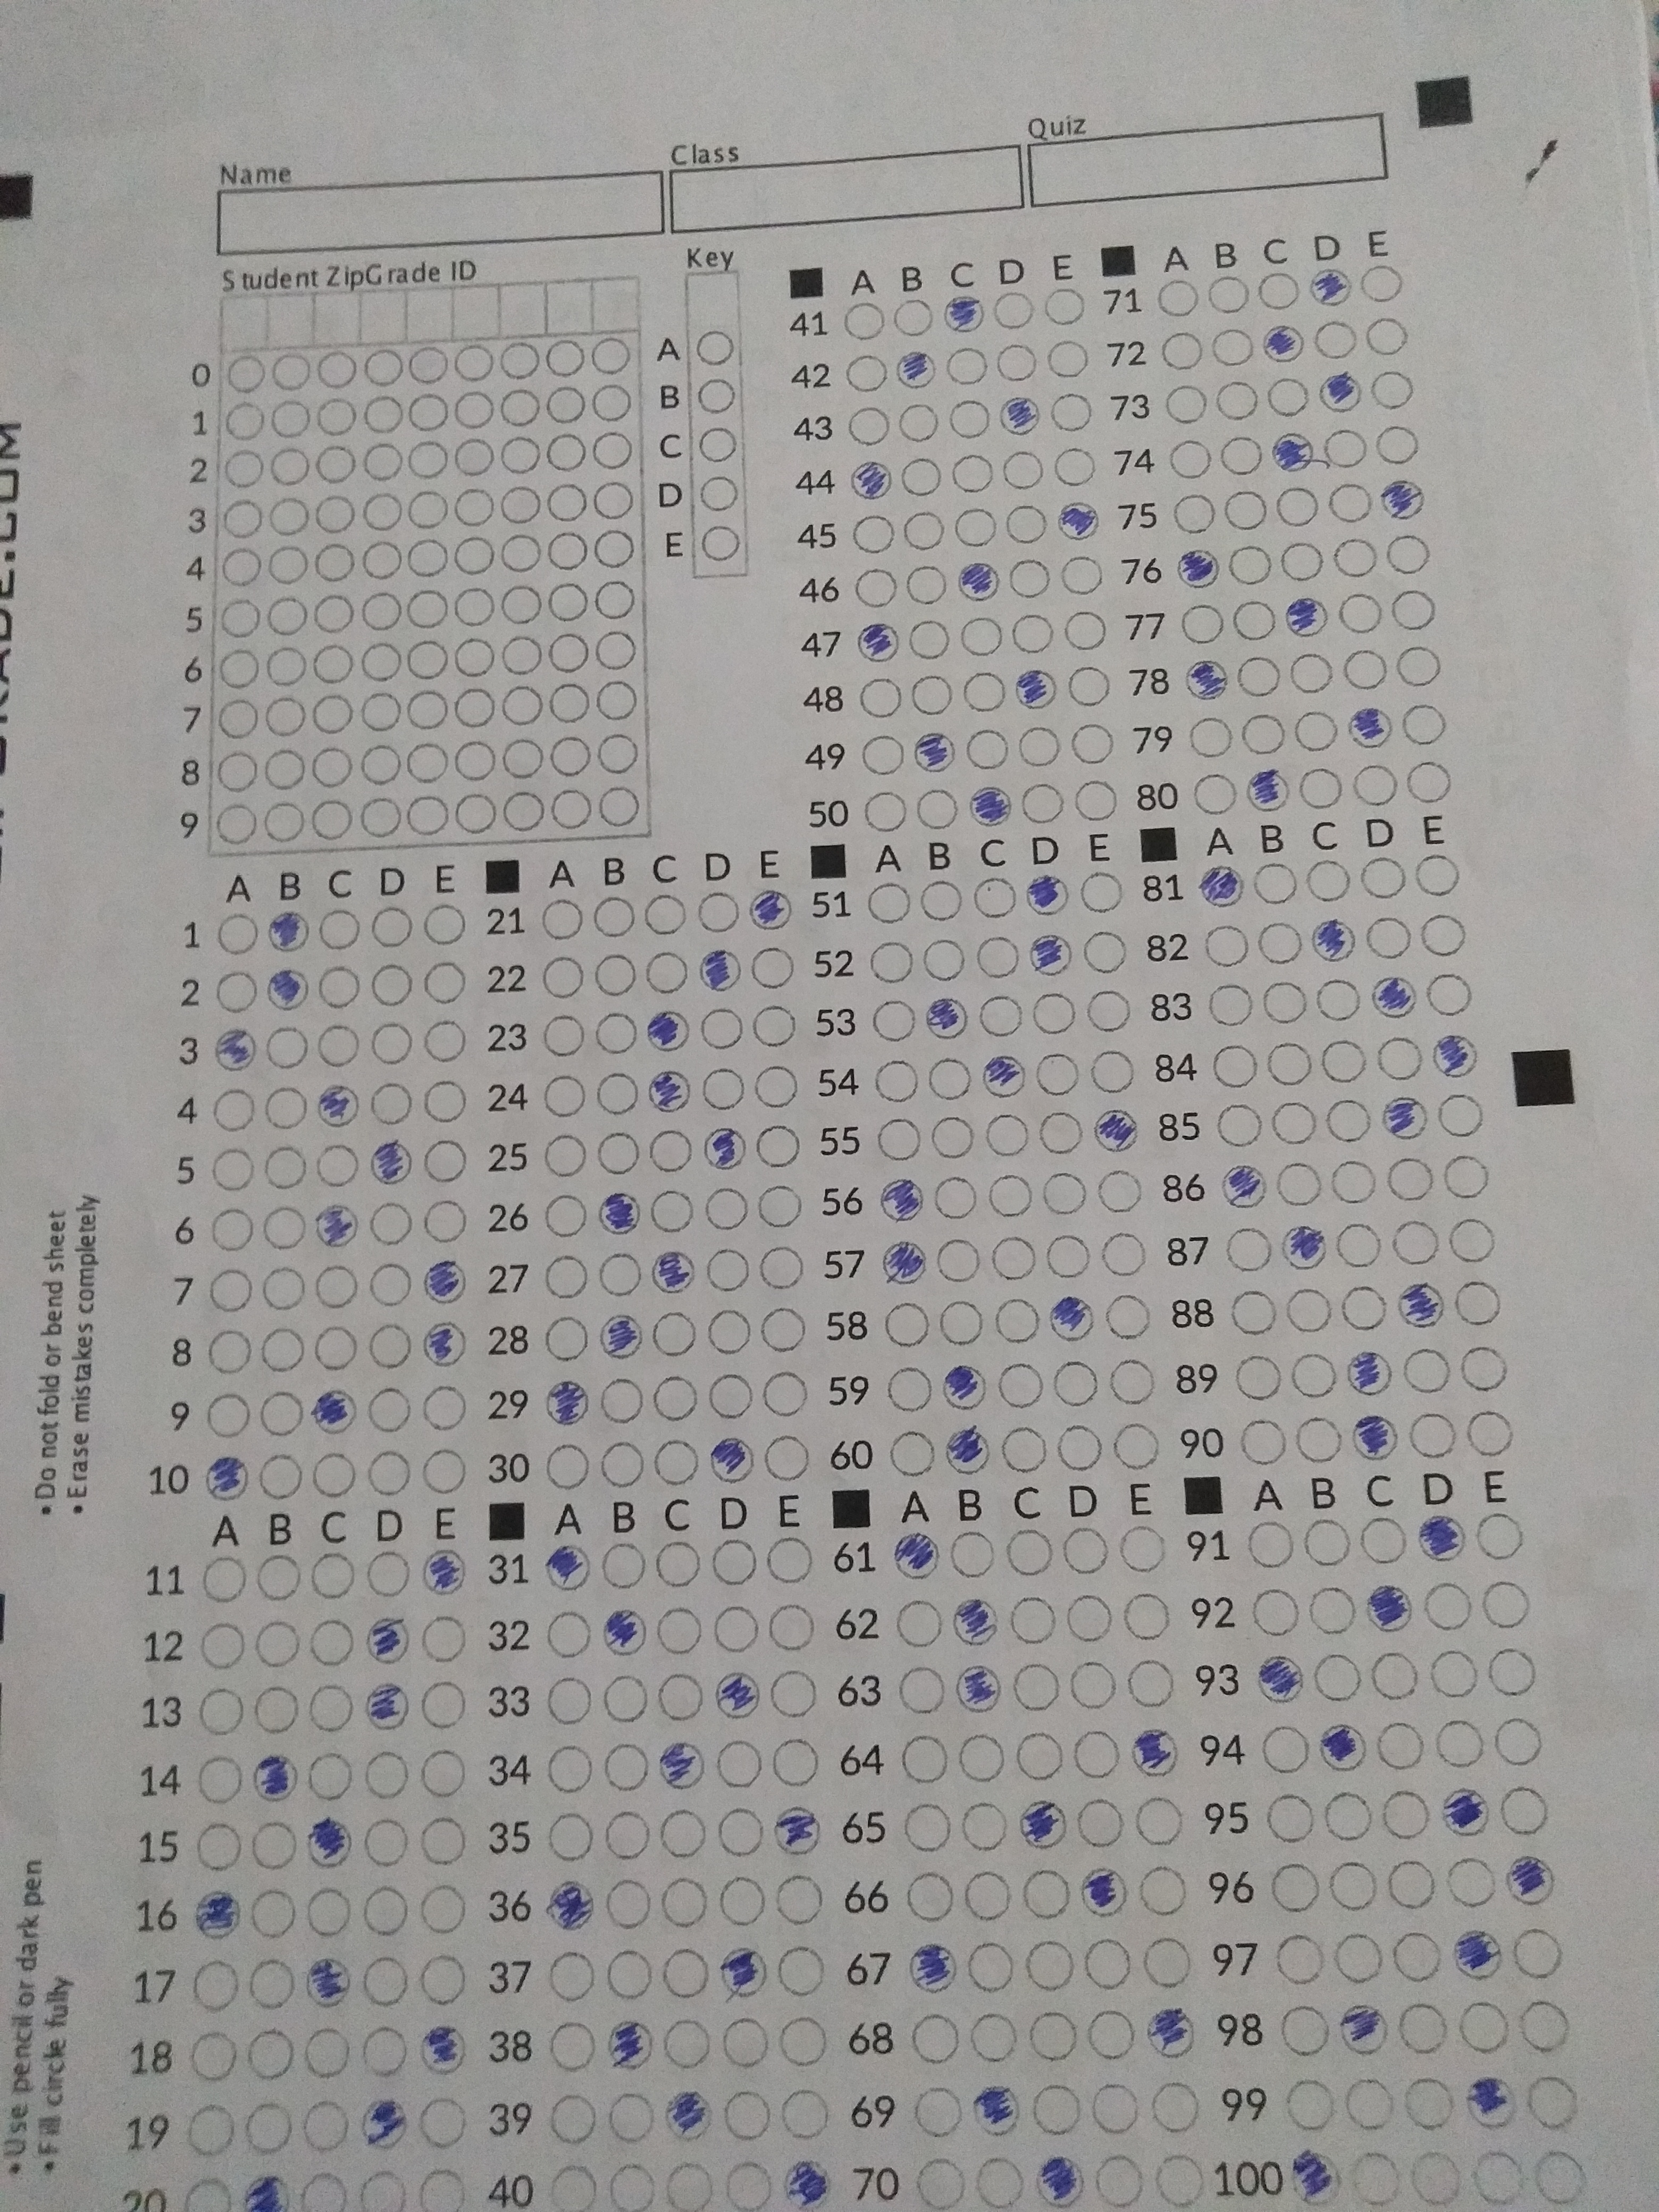not-c: (1349, 2148, 1405, 2205), (1527, 2073, 1582, 2130), (1398, 2000, 1453, 2057), (1277, 2001, 1333, 2059), (1089, 2080, 1145, 2137), (910, 2085, 965, 2142), (960, 1869, 1016, 1926), (903, 1867, 958, 1925), (955, 1801, 1011, 1858), (1408, 2149, 1464, 2205), (1473, 2148, 1527, 2205), (1534, 2148, 1588, 2205), (1520, 2000, 1574, 2057), (1345, 2076, 1399, 2134), (1403, 2076, 1457, 2134), (1028, 2080, 1082, 2137), (897, 1799, 951, 1857), (1459, 1998, 1513, 2054), (1284, 2078, 1338, 2134), (1147, 2081, 1201, 2137), (1018, 1865, 1072, 1921), (418, 1745, 467, 1803), (420, 1679, 469, 1737), (599, 1541, 650, 1592), (652, 1541, 702, 1592), (709, 1540, 760, 1590), (763, 1536, 814, 1587), (767, 1604, 817, 1655), (711, 1606, 762, 1656), (653, 1608, 704, 1658), (655, 1672, 706, 1723), (601, 1672, 652, 1723), (545, 1677, 596, 1728), (544, 1743, 594, 1794), (601, 1742, 652, 1792), (714, 1740, 765, 1791), (767, 1667, 817, 1717), (713, 1738, 763, 1789), (420, 1613, 469, 1665), (542, 1608, 591, 1660), (650, 1308, 699, 1359), (760, 1369, 809, 1420), (540, 1073, 589, 1122), (704, 1186, 753, 1235), (708, 1372, 755, 1421), (598, 1439, 645, 1487), (652, 1440, 699, 1489), (544, 1442, 592, 1489), (540, 1254, 589, 1301), (540, 1193, 589, 1240), (542, 1134, 591, 1181), (538, 1014, 587, 1061), (697, 1007, 746, 1054), (645, 1129, 694, 1176), (199, 1688, 246, 1735), (542, 1315, 589, 1362), (701, 1066, 748, 1113), (706, 1245, 753, 1292), (706, 1310, 753, 1357), (650, 1372, 695, 1421), (599, 1376, 645, 1425), (362, 1888, 408, 1935), (423, 1815, 469, 1862), (978, 2160, 1023, 2207), (918, 2161, 964, 2209), (418, 2165, 464, 2212), (612, 2165, 657, 2212), (960, 1735, 1006, 1782), (1253, 1590, 1298, 1637), (1483, 1583, 1528, 1630), (1502, 1789, 1547, 1836), (1026, 1942, 1072, 1989), (1467, 1411, 1513, 1458), (1297, 1416, 1342, 1463), (1002, 1425, 1047, 1472), (889, 1432, 934, 1479), (1063, 1527, 1108, 1575), (1007, 1527, 1053, 1575), (1070, 1663, 1115, 1710), (1073, 1728, 1119, 1775), (1389, 1157, 1434, 1204), (1276, 1160, 1321, 1207), (1394, 1217, 1439, 1264), (1335, 1223, 1380, 1270), (1100, 1231, 1145, 1278), (1340, 1284, 1385, 1331), (1230, 1289, 1276, 1336), (882, 1303, 927, 1350), (1377, 1035, 1422, 1082), (1216, 1103, 1262, 1150), (983, 1109, 1028, 1157), (857, 676, 903, 723), (1072, 777, 1117, 824), (1253, 860, 1298, 907), (1307, 857, 1352, 904), (1366, 914, 1412, 961), (1080, 874, 1126, 921), (870, 939, 915, 986), (875, 1057, 920, 1104), (871, 998, 917, 1045), (908, 672, 953, 719), (962, 671, 1007, 718), (1396, 644, 1441, 691), (1293, 709, 1338, 756), (1192, 772, 1237, 819), (1326, 477, 1371, 524), (1387, 531, 1432, 578), (897, 455, 943, 502), (901, 507, 946, 554), (1211, 320, 1256, 368), (845, 399, 890, 446), (1358, 261, 1403, 308), (777, 1876, 823, 1921), (662, 1879, 708, 1925), (361, 2031, 406, 2076), (303, 2031, 349, 2076), (418, 1958, 464, 2003), (361, 1959, 406, 2005), (249, 1892, 295, 1937), (364, 1818, 410, 1864), (247, 1824, 293, 1869), (782, 2092, 828, 2137), (551, 2024, 596, 2069), (1269, 1864, 1314, 1909), (1337, 1933, 1382, 1979), (1155, 2160, 1201, 2205), (1378, 1724, 1424, 1770), (1263, 1728, 1309, 1773), (1384, 1794, 1429, 1839), (1460, 1348, 1506, 1393), (1241, 1421, 1286, 1467), (1056, 1425, 1101, 1470), (1040, 1169, 1086, 1214), (988, 1174, 1033, 1219), (934, 1176, 979, 1221), (990, 1235, 1035, 1280), (995, 1298, 1040, 1343), (1316, 975, 1361, 1021), (1439, 1094, 1485, 1139), (1033, 1052, 1079, 1097), (875, 1055, 920, 1101), (875, 1115, 920, 1160), (1070, 718, 1115, 763), (1018, 780, 1063, 826), (1420, 913, 1466, 958), (979, 996, 1025, 1042), (1066, 665, 1112, 711), (1223, 486, 1269, 531), (1051, 442, 1096, 488), (951, 505, 997, 550), (1006, 502, 1051, 547), (1215, 374, 1260, 420), (254, 1688, 298, 1735), (305, 2101, 349, 2148), (721, 1878, 765, 1925), (249, 1959, 293, 2006), (197, 1824, 240, 1871), (551, 1813, 594, 1860), (361, 2165, 404, 2212), (725, 2165, 769, 2212), (669, 2163, 713, 2210), (725, 2092, 769, 2139), (971, 2013, 1014, 2060), (1030, 2013, 1073, 2060), (1518, 1932, 1561, 1979), (1396, 1933, 1439, 1980), (1279, 1933, 1323, 1980), (1098, 2158, 1141, 2205), (904, 1737, 948, 1784), (1310, 1588, 1354, 1635), (1488, 1646, 1532, 1693), (1432, 1649, 1476, 1696), (1316, 1655, 1359, 1702), (1326, 1792, 1370, 1839), (1269, 1794, 1312, 1841), (1138, 1801, 1182, 1848), (1079, 1801, 1122, 1848), (1330, 1862, 1373, 1909), (1140, 1867, 1183, 1914), (1145, 1939, 1188, 1986), (967, 1944, 1011, 1991), (1112, 1357, 1155, 1404), (1291, 1353, 1335, 1400), (1248, 1521, 1291, 1568), (1121, 1526, 1164, 1573), (951, 1529, 995, 1576), (896, 1599, 939, 1646), (1011, 1595, 1054, 1642), (1066, 1595, 1110, 1642), (1126, 1595, 1169, 1642), (1014, 1665, 1058, 1712), (1018, 1735, 1061, 1782), (1333, 1158, 1377, 1205), (1098, 1167, 1141, 1214), (1448, 1219, 1492, 1266), (1227, 1226, 1270, 1273), (1046, 1233, 1089, 1280), (1288, 1287, 1331, 1334), (939, 1301, 983, 1348), (1053, 1360, 1096, 1407), (887, 1366, 931, 1413), (1429, 974, 1473, 1021), (1263, 979, 1307, 1026), (1209, 981, 1253, 1028), (1089, 1047, 1133, 1094), (1213, 1043, 1256, 1090), (1274, 1101, 1317, 1148), (1040, 1109, 1084, 1157), (861, 730, 904, 777), (965, 725, 1009, 772), (866, 787, 910, 834), (915, 787, 958, 834), (1415, 853, 1459, 900), (1361, 855, 1405, 902), (1258, 923, 1302, 970), (868, 883, 911, 930), (974, 876, 1018, 923), (1086, 930, 1129, 977), (974, 935, 1018, 982), (922, 937, 965, 984), (1032, 993, 1075, 1040), (1058, 550, 1101, 597), (1007, 557, 1051, 604), (908, 617, 951, 664), (964, 615, 1007, 662), (1009, 610, 1053, 657), (1354, 761, 1398, 808), (1190, 718, 1234, 765), (1241, 712, 1284, 759), (1229, 543, 1272, 590), (1279, 535, 1323, 582), (1338, 589, 1382, 636), (1002, 448, 1046, 495), (850, 512, 894, 559), (1047, 336, 1091, 383), (1363, 315, 1406, 362), (1159, 324, 1202, 371), (1370, 368, 1413, 415), (1265, 373, 1309, 420), (1164, 381, 1208, 428), (948, 397, 992, 444), (1049, 385, 1093, 432), (1375, 423, 1419, 470), (1222, 434, 1265, 481), (1171, 434, 1215, 481), (1173, 489, 1216, 536), (1155, 275, 1199, 322), (1042, 282, 1086, 329), (892, 294, 936, 341), (246, 2106, 289, 2151), (192, 2107, 235, 2153), (779, 1947, 823, 1993), (664, 1951, 708, 1996), (551, 1952, 594, 1998), (605, 1881, 648, 1926), (247, 2031, 291, 2076), (192, 2033, 235, 2078), (192, 1961, 235, 2006), (418, 1886, 462, 1932), (307, 1890, 350, 1935), (718, 1808, 762, 1853), (660, 1811, 704, 1857), (606, 1811, 650, 1857), (915, 2015, 958, 2060), (551, 2165, 594, 2210), (610, 2095, 653, 2141), (554, 2097, 598, 2142), (781, 2019, 824, 2064), (723, 2019, 767, 2064), (667, 2022, 711, 2067), (420, 2101, 464, 2146), (1089, 2012, 1133, 2057), (1427, 1585, 1471, 1630), (1371, 1655, 1415, 1700), (1495, 1719, 1539, 1764), (1438, 1721, 1481, 1766), (1453, 1862, 1497, 1907), (1391, 1862, 1434, 1907), (1086, 1942, 1129, 1987), (1236, 1355, 1279, 1400), (1406, 1350, 1450, 1395), (1412, 1413, 1455, 1458), (1115, 1423, 1159, 1468), (1480, 1514, 1523, 1559), (1361, 1519, 1405, 1564), (1305, 1519, 1349, 1564), (1129, 1662, 1173, 1707), (901, 1667, 945, 1712), (1445, 1155, 1488, 1200), (936, 1238, 979, 1284), (1455, 1280, 1499, 1325), (1103, 1294, 1147, 1339), (999, 1362, 1042, 1407), (1326, 1099, 1370, 1144), (1321, 1038, 1364, 1083), (927, 1055, 971, 1101), (1267, 1042, 1310, 1087), (929, 1115, 972, 1160), (1016, 723, 1060, 768), (1204, 925, 1248, 970), (920, 880, 964, 925), (1087, 991, 1131, 1036), (906, 564, 950, 610), (852, 566, 896, 611), (1063, 608, 1107, 653), (1344, 646, 1387, 691), (1288, 650, 1331, 695), (1237, 655, 1281, 700), (1406, 761, 1450, 806), (1401, 704, 1445, 749), (1276, 482, 1319, 528), (1335, 533, 1378, 578), (1392, 589, 1436, 634), (1232, 597, 1276, 643), (1180, 603, 1223, 648), (951, 451, 995, 496), (945, 345, 988, 390), (993, 341, 1037, 387), (1314, 319, 1358, 364), (896, 401, 939, 446), (1324, 425, 1368, 470), (1206, 272, 1249, 317), (1255, 266, 1298, 312), (993, 289, 1037, 334), (843, 300, 887, 345), (845, 350, 889, 395), (310, 1686, 354, 1730), (1298, 768, 1342, 806), (227, 354, 267, 394), (223, 449, 263, 489), (591, 383, 631, 423), (545, 383, 586, 423), (453, 392, 493, 432), (362, 395, 403, 435), (453, 341, 493, 381), (362, 347, 403, 387), (315, 444, 355, 484), (312, 801, 352, 841), (265, 803, 305, 843), (216, 803, 256, 843), (504, 740, 544, 780), (410, 742, 450, 782), (361, 747, 401, 787), (314, 747, 354, 787), (265, 749, 305, 789), (216, 752, 256, 792), (408, 690, 448, 730), (361, 691, 401, 732), (314, 695, 354, 735), (267, 697, 307, 737), (216, 700, 256, 740), (502, 636, 542, 676), (453, 637, 493, 678), (408, 639, 448, 679), (312, 643, 352, 683), (267, 646, 307, 686), (221, 650, 261, 690), (594, 580, 634, 620), (549, 583, 589, 624), (502, 585, 542, 625), (453, 587, 493, 627), (406, 589, 446, 629), (362, 592, 403, 632), (267, 596, 307, 636), (500, 535, 540, 575), (455, 535, 495, 575), (408, 536, 448, 577), (361, 540, 401, 580), (315, 543, 355, 583), (267, 547, 307, 587), (701, 523, 741, 563), (699, 474, 739, 514), (694, 327, 734, 368), (225, 547, 265, 587), (500, 484, 540, 524), (455, 486, 495, 526), (410, 488, 450, 528), (361, 491, 401, 531), (270, 498, 310, 538), (364, 442, 404, 482), (270, 446, 310, 486), (598, 1012, 638, 1052), (755, 948, 795, 988), (647, 953, 687, 993), (596, 954, 636, 995), (699, 892, 739, 932), (542, 899, 582, 939), (425, 961, 465, 1001), (369, 965, 410, 1005), (214, 974, 254, 1014), (319, 911, 359, 951), (551, 787, 591, 827), (504, 789, 544, 829), (457, 792, 497, 833), (408, 796, 448, 836), (765, 1310, 805, 1350), (369, 1261, 410, 1301), (315, 1264, 355, 1305), (760, 1184, 800, 1224), (211, 1212, 251, 1252), (598, 1134, 638, 1174), (265, 1148, 305, 1188), (213, 1150, 253, 1190), (423, 1080, 464, 1120), (371, 1083, 411, 1123), (200, 1759, 240, 1799), (312, 1622, 352, 1662), (369, 1555, 410, 1595), (314, 1559, 354, 1599), (256, 1559, 296, 1599), (204, 1559, 244, 1599), (425, 1451, 465, 1491), (314, 1456, 354, 1496), (425, 1386, 465, 1426), (368, 1390, 408, 1430), (369, 1327, 410, 1367), (303, 2172, 343, 2212), (498, 388, 537, 428), (408, 394, 446, 434), (317, 395, 355, 435), (225, 397, 263, 437), (592, 334, 631, 374), (545, 338, 584, 378), (500, 340, 538, 380), (408, 347, 446, 387), (317, 348, 355, 388), (272, 354, 310, 394), (596, 732, 634, 772), (549, 737, 587, 777), (457, 740, 495, 780), (599, 681, 638, 721), (549, 685, 589, 723), (504, 686, 542, 726), (457, 688, 495, 728), (596, 632, 634, 672), (549, 634, 587, 674), (361, 641, 401, 679), (314, 596, 352, 636), (223, 597, 261, 637), (547, 533, 587, 571), (594, 529, 633, 570), (701, 423, 739, 463), (701, 378, 739, 418), (594, 481, 633, 521), (317, 495, 355, 535), (223, 498, 261, 538), (592, 430, 631, 470), (547, 434, 587, 472), (502, 434, 540, 474), (408, 441, 446, 481), (645, 894, 685, 932), (594, 897, 633, 937), (373, 1024, 411, 1064), (321, 1026, 359, 1066), (268, 1026, 307, 1066), (319, 967, 357, 1007), (373, 907, 413, 946), (218, 914, 256, 954), (599, 787, 638, 827), (763, 1249, 802, 1289), (599, 1252, 638, 1292), (267, 1268, 305, 1308), (213, 1271, 251, 1312), (652, 1191, 692, 1230), (427, 1200, 465, 1240), (371, 1204, 411, 1242), (267, 1209, 305, 1249), (427, 1143, 465, 1183), (317, 1146, 355, 1186), (756, 1068, 795, 1108), (598, 1073, 636, 1113), (267, 1089, 305, 1129), (213, 1090, 251, 1130), (756, 1007, 795, 1047), (258, 1625, 296, 1665), (202, 1625, 240, 1665), (769, 1439, 807, 1479), (368, 1454, 406, 1494), (261, 1456, 300, 1496), (211, 1395, 249, 1435), (317, 1329, 355, 1369), (211, 1331, 249, 1371), (310, 1756, 349, 1796), (272, 401, 310, 439), (549, 484, 587, 523), (457, 439, 495, 477), (544, 958, 582, 996), (425, 1021, 464, 1059), (425, 906, 464, 944), (361, 799, 399, 838), (760, 1127, 798, 1165), (261, 1393, 300, 1432), (261, 1331, 300, 1369), (368, 1754, 406, 1792), (186, 2177, 228, 2212)
taken-c: (1288, 2148, 1345, 2207), (1033, 2153, 1087, 2209), (1464, 2074, 1518, 2128), (774, 1804, 826, 1857), (1129, 1726, 1182, 1778), (1018, 1797, 1070, 1850), (1338, 2005, 1391, 2057), (1506, 1855, 1558, 1907), (1415, 1512, 1467, 1564), (359, 2099, 410, 2153), (418, 2024, 469, 2078), (1145, 2006, 1195, 2060), (972, 2083, 1021, 2139), (192, 1890, 244, 1940), (662, 2088, 713, 2141), (782, 2156, 833, 2209), (908, 1944, 958, 1996), (1452, 1928, 1502, 1980), (1439, 1785, 1490, 1838), (305, 1815, 354, 1869), (547, 1878, 596, 1932), (948, 1597, 1002, 1646), (303, 1956, 354, 2006), (1046, 1292, 1096, 1343), (1396, 1280, 1446, 1331), (1279, 1223, 1330, 1273), (955, 1663, 1006, 1714), (1079, 1867, 1129, 1918), (713, 1667, 762, 1719), (1319, 1723, 1368, 1775), (660, 1738, 708, 1792), (251, 1754, 300, 1804), (601, 1606, 650, 1656), (718, 1947, 769, 1996), (939, 1362, 990, 1411), (890, 1531, 941, 1580), (606, 2019, 653, 2071), (1364, 1585, 1413, 1634), (312, 1388, 359, 1439), (364, 1615, 411, 1665), (544, 1541, 591, 1592), (943, 1425, 990, 1475), (1380, 1094, 1431, 1141), (598, 1313, 645, 1362), (643, 1008, 692, 1055), (1351, 1414, 1399, 1461), (1345, 1350, 1394, 1397), (1431, 1033, 1480, 1080), (1256, 1656, 1305, 1703), (204, 1454, 251, 1501), (317, 1082, 362, 1130), (423, 1318, 469, 1367), (709, 1437, 755, 1486), (648, 1251, 697, 1296), (1345, 707, 1394, 752), (1284, 592, 1330, 641), (1091, 1109, 1140, 1155), (880, 1240, 929, 1285), (1220, 1165, 1270, 1209), (369, 1139, 415, 1186), (314, 1204, 361, 1249), (422, 1258, 467, 1305), (544, 1379, 589, 1426), (596, 1191, 643, 1237), (701, 1125, 746, 1172), (699, 946, 744, 993), (366, 1683, 411, 1730), (420, 1550, 467, 1595), (957, 559, 1004, 604), (1244, 768, 1291, 813), (924, 996, 971, 1042), (981, 1052, 1026, 1099), (877, 1177, 924, 1223), (854, 622, 903, 665), (1023, 873, 1072, 916), (1197, 866, 1246, 909), (969, 784, 1014, 829), (1373, 975, 1419, 1021), (213, 1028, 260, 1071), (1026, 934, 1073, 977), (746, 890, 795, 932), (1269, 432, 1317, 474), (1182, 660, 1232, 700), (267, 907, 310, 953), (265, 967, 310, 1010), (648, 1069, 694, 1113), (943, 293, 988, 336), (1380, 479, 1425, 523), (1173, 549, 1220, 590), (1310, 920, 1358, 961), (997, 395, 1042, 437), (1014, 669, 1060, 711), (240, 2174, 293, 2209), (913, 732, 957, 773), (849, 460, 894, 500), (1054, 502, 1100, 542), (1317, 374, 1363, 415), (1260, 326, 1305, 364), (1309, 268, 1354, 307), (896, 350, 938, 388)
